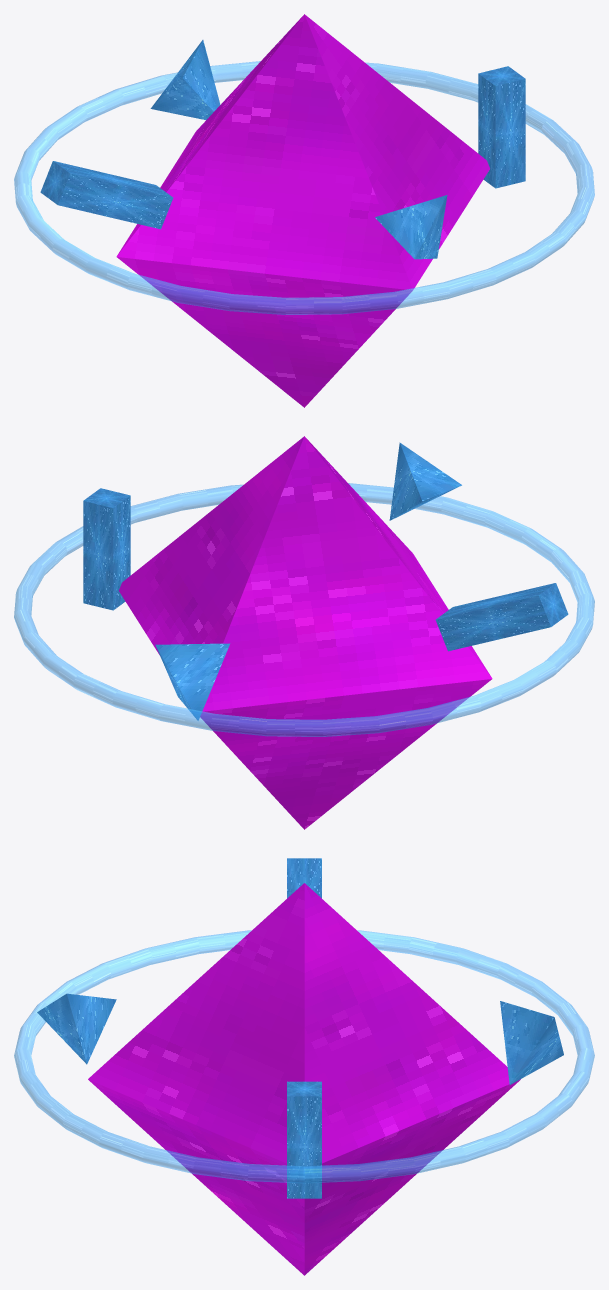
File: anomaly-cluster-magenta.high.glb
3 views of the same model, one above another, from view 1: azimuth 30°, elevation 25°; view 2: azimuth 150°, elevation 25°; view 3: azimuth 270°, elevation 25° (orthographic).
Parts seen in each view (by area): view 1: shell, ring, orbital-0; view 2: shell, ring, orbital-0; view 3: shell, ring, orbital-0.
Boxes of the visible parts, x1,y1,x2,y2 form: shell: (116, 14, 489, 407); ring: (14, 61, 594, 314); orbital-0: (40, 40, 525, 259); shell: (119, 436, 492, 829); ring: (14, 483, 594, 736); orbital-0: (83, 442, 568, 720); shell: (88, 883, 520, 1275); ring: (14, 930, 594, 1183); orbital-0: (37, 858, 563, 1198).
Bounding box in the file's own units: 2.7 × 2 × 2.68.
Materials: 3 (3 with a texture image).
